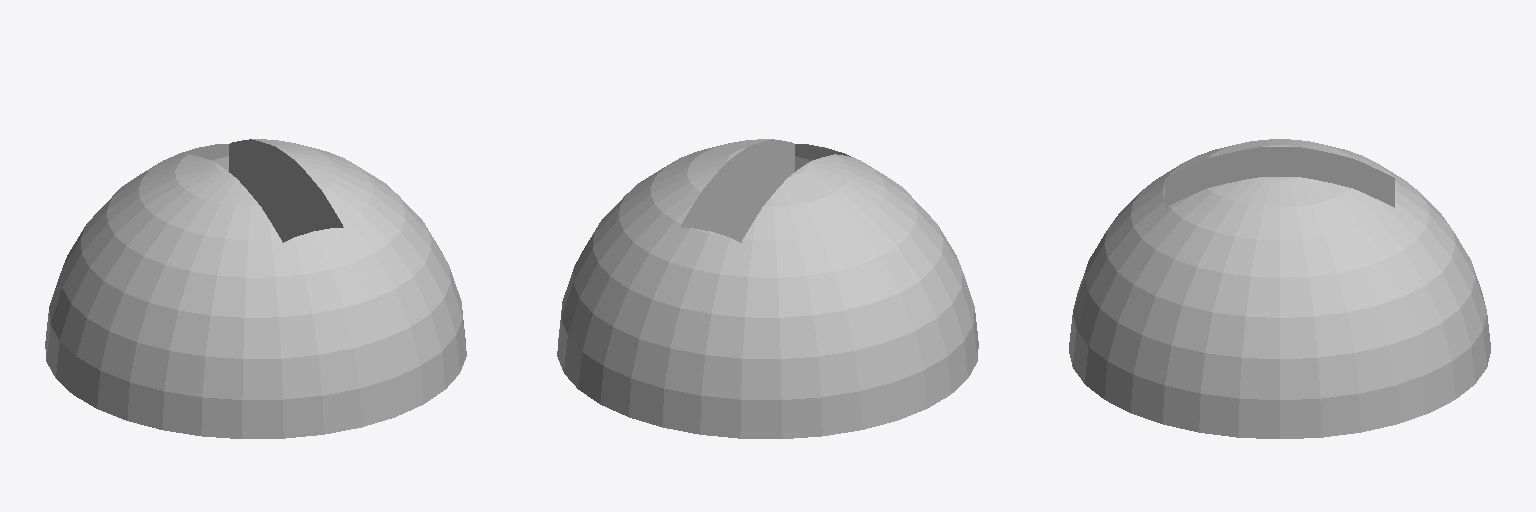
The model's file is v4_cutout.obj.
3 views of the same model, side by side, from view 1: azimuth 30°, elevation 25°; view 2: azimuth 150°, elevation 25°; view 3: azimuth 270°, elevation 25° (orthographic).
Visible parts, largest first — view 1: Sphere; view 2: Sphere; view 3: Sphere.
Boxes of the visible parts, box(x1,y1,x2,y2) form: Sphere: box(45, 139, 466, 438); Sphere: box(557, 139, 978, 438); Sphere: box(1069, 139, 1490, 438).
Size of the model in its own units: 25 by 12.29 by 25.